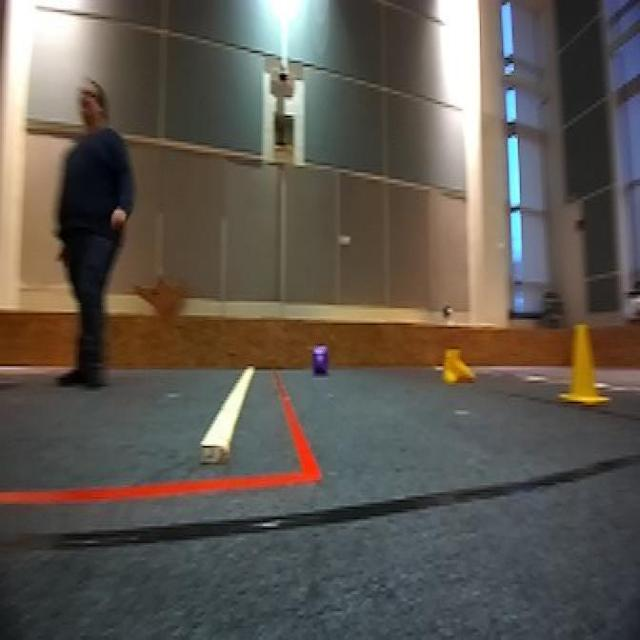frc_cone: (560, 320, 602, 412), (437, 344, 474, 386)
frc_cube: (308, 346, 329, 380)
